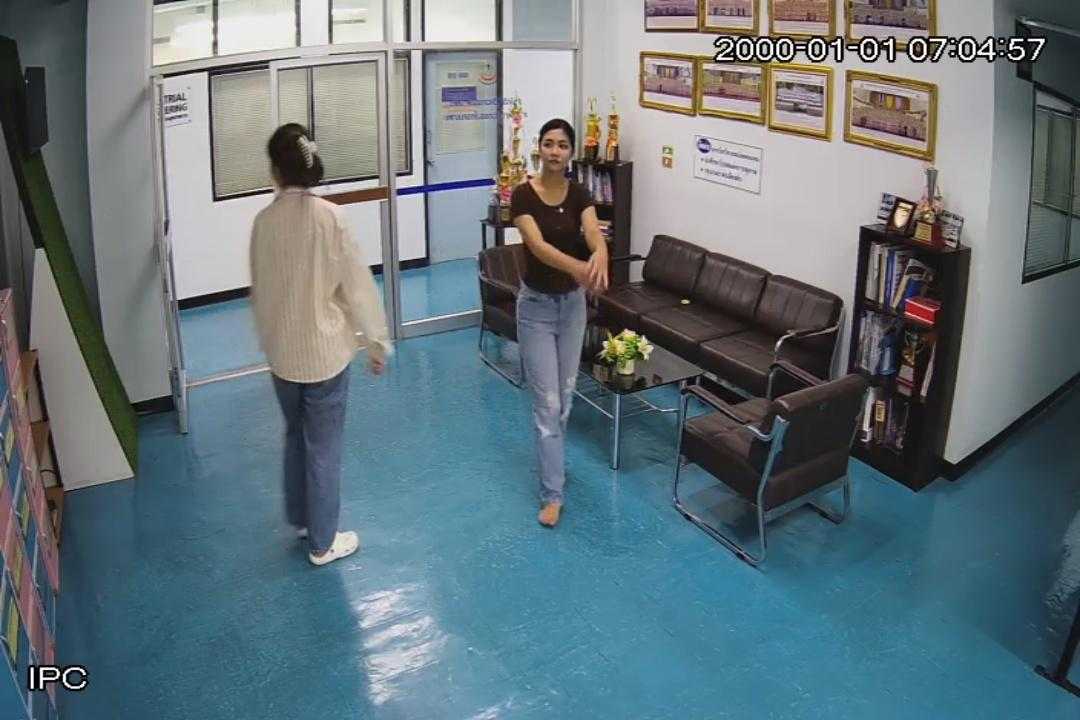normal: (240, 114, 391, 572), (494, 112, 611, 552)
